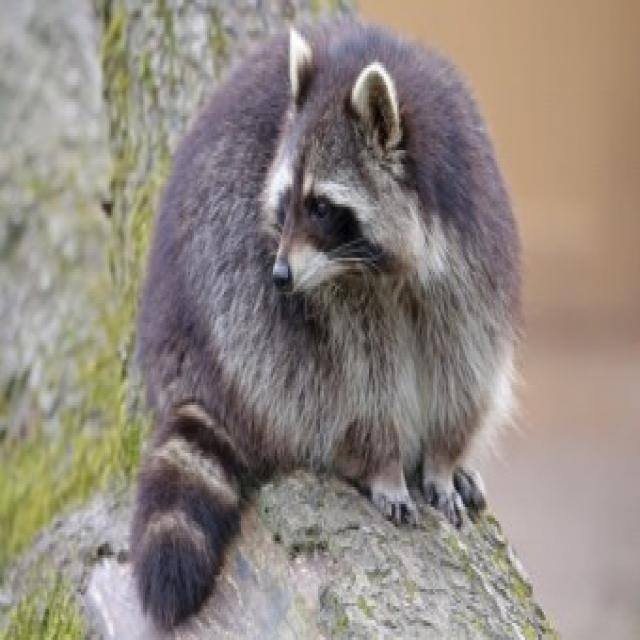racoon: (155, 25, 533, 562)
